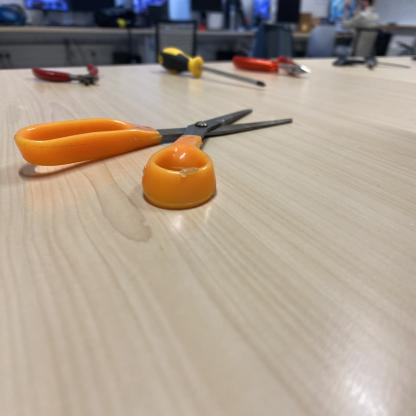scissors: (14, 107, 294, 210), (330, 55, 412, 73)
